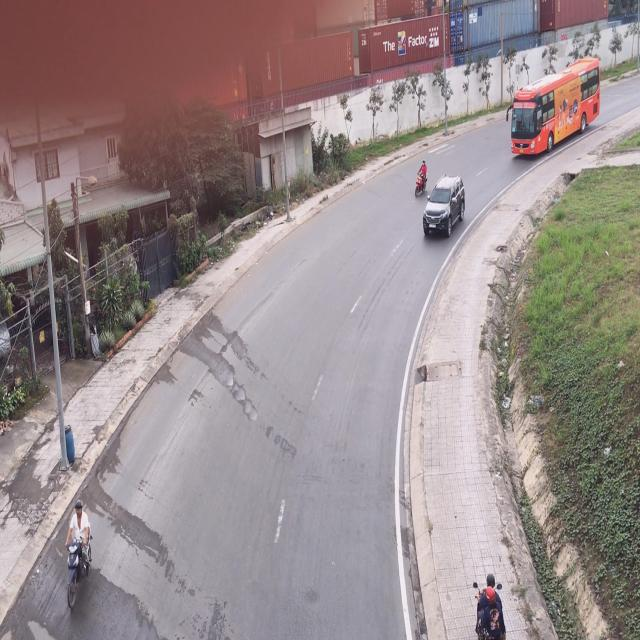bus: (509, 58, 601, 160)
car: (420, 175, 463, 239)
motorbike: (66, 503, 93, 593), (476, 572, 506, 640), (415, 161, 429, 200)
